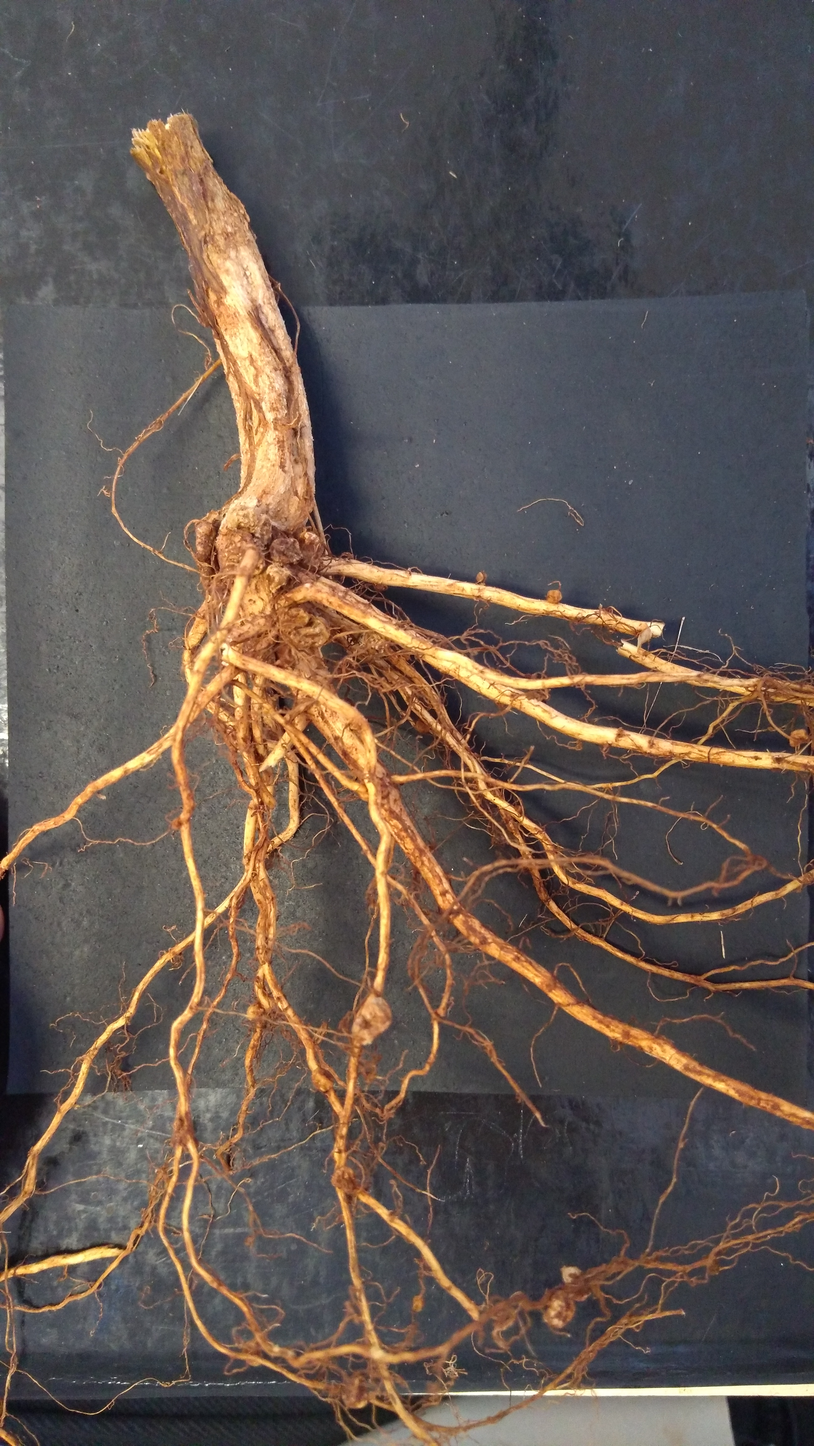nodule: (348, 993, 398, 1049), (214, 528, 265, 582), (540, 1289, 582, 1335), (333, 1373, 375, 1414), (556, 1262, 595, 1306), (185, 515, 218, 566), (289, 616, 332, 652), (266, 534, 306, 566), (263, 560, 293, 595), (330, 1165, 359, 1198), (310, 1065, 338, 1094), (789, 723, 811, 751), (244, 1002, 267, 1021), (408, 1292, 426, 1315), (544, 588, 565, 607), (302, 529, 324, 547), (474, 571, 489, 588)
